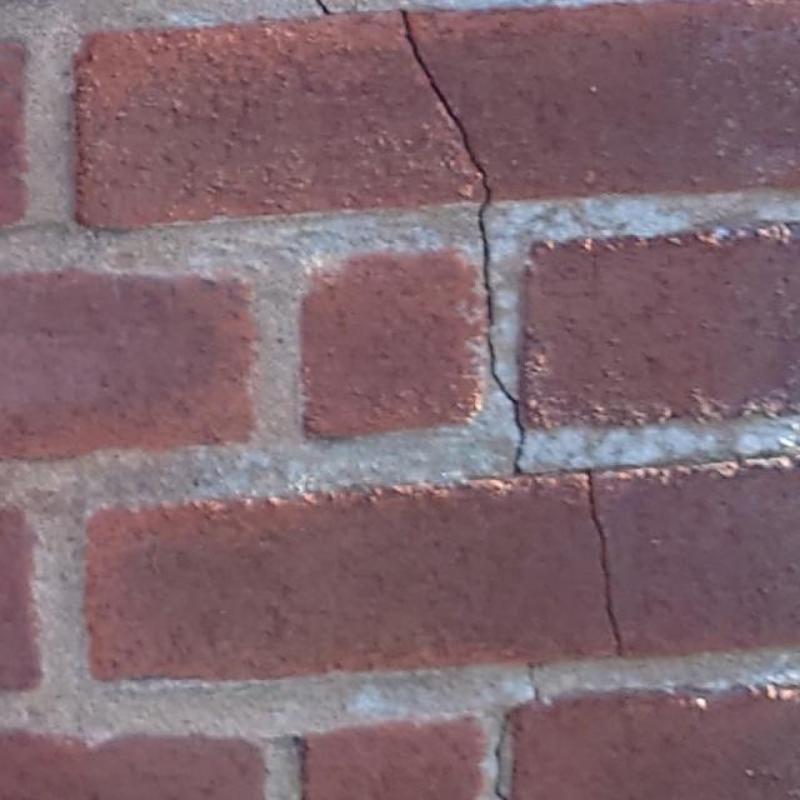pothole: (402, 11, 527, 474), (588, 472, 622, 654), (492, 714, 509, 799), (528, 662, 545, 703), (314, 0, 331, 16)
